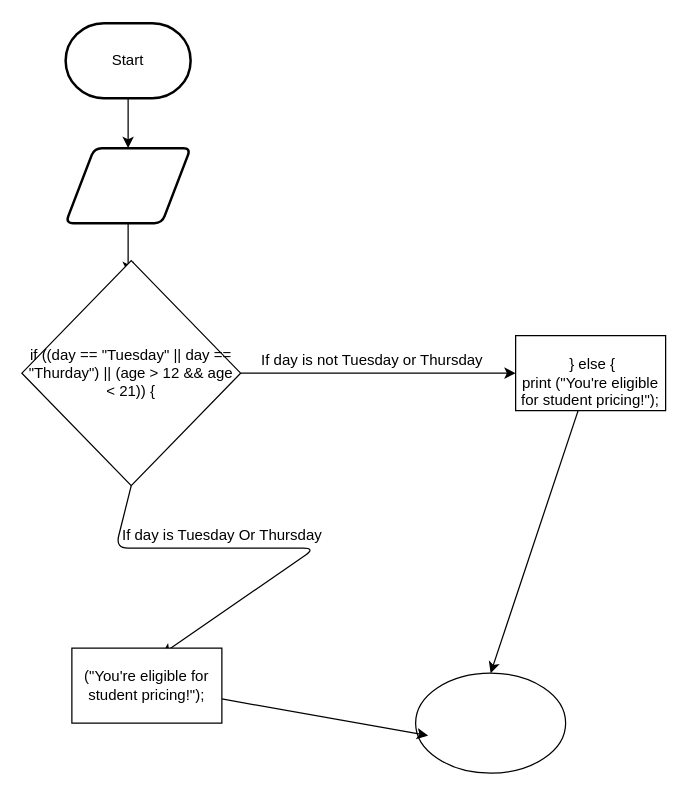
The diagram is 688 pixels wide and 795 high, and some of its shapes have lost their labels. Here are the shapes that lost their labels. From the top down, the centre of each, then its label:
(127,185): Enter day and age
(490,722): Stop
